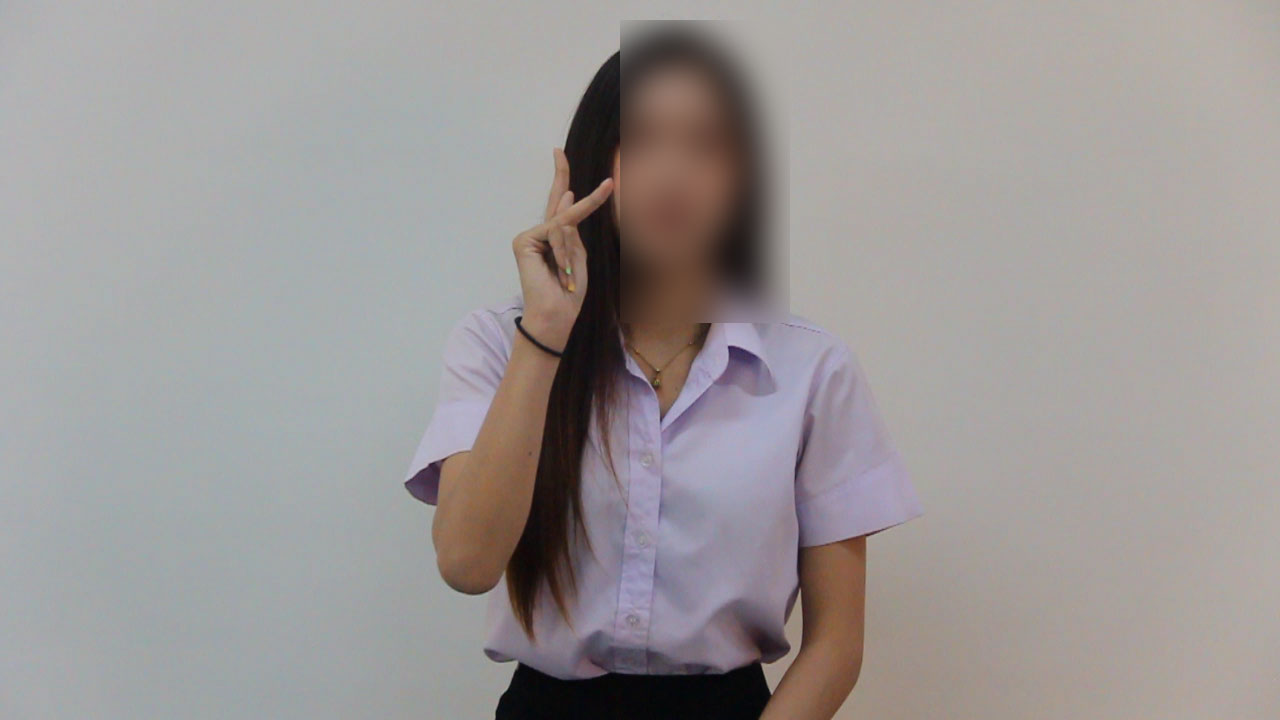ko: (490, 144, 620, 323)
